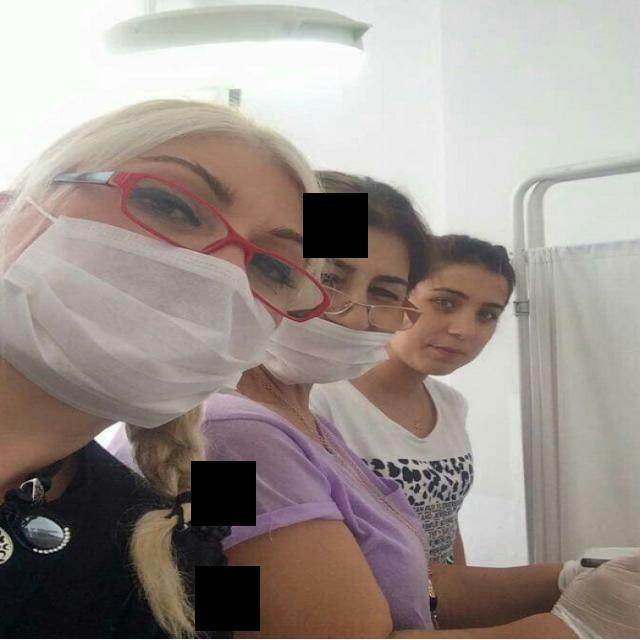apron: (538, 545, 640, 640)
hairnet: (264, 279, 385, 387)
mask: (2, 206, 277, 431)
no_gloves: (12, 86, 314, 228), (310, 175, 439, 271), (414, 227, 525, 306)
no_hairnet: (393, 311, 509, 379)
